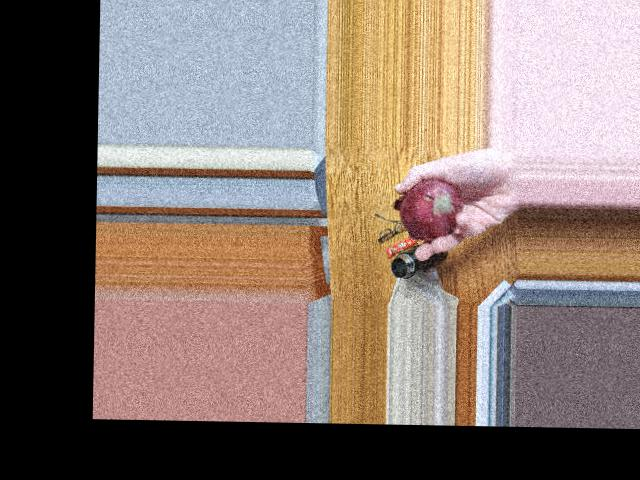onion: (402, 177, 470, 231)
